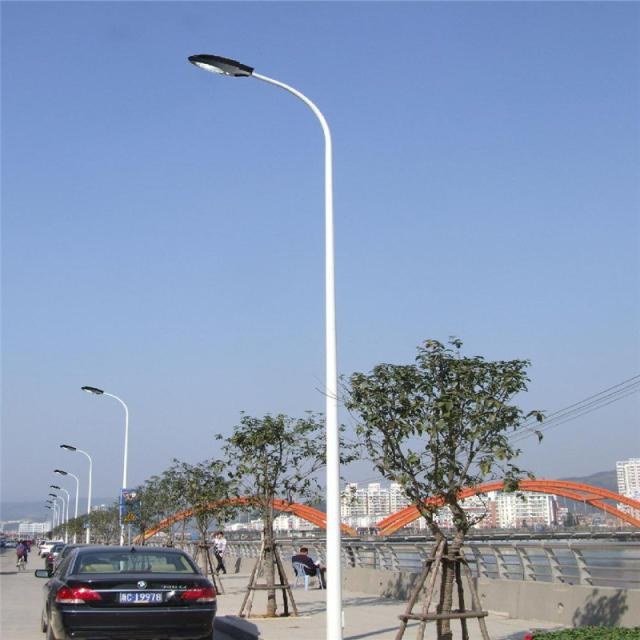Electric pole: (189, 54, 343, 640), (82, 387, 128, 489)
